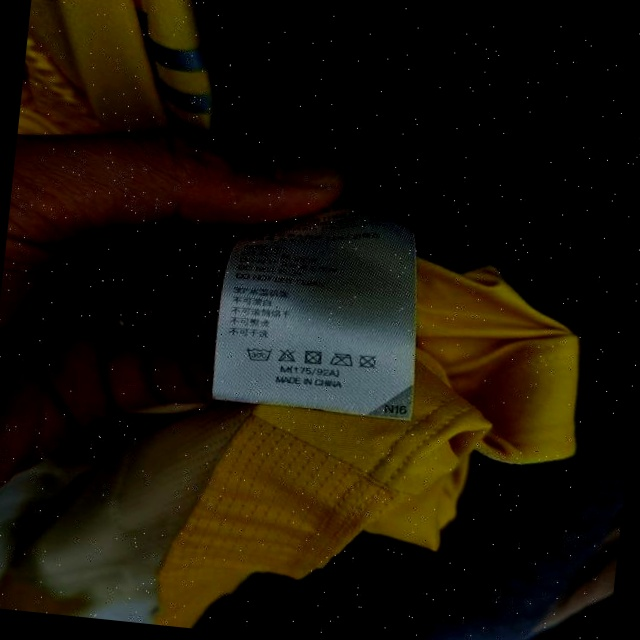30C: (244, 344, 274, 365)
DN_bleach: (277, 347, 300, 364)
DN_dry_clean: (357, 352, 380, 371)
DN_iron: (327, 349, 355, 370)
DN_tumble_dry: (303, 349, 325, 368)
